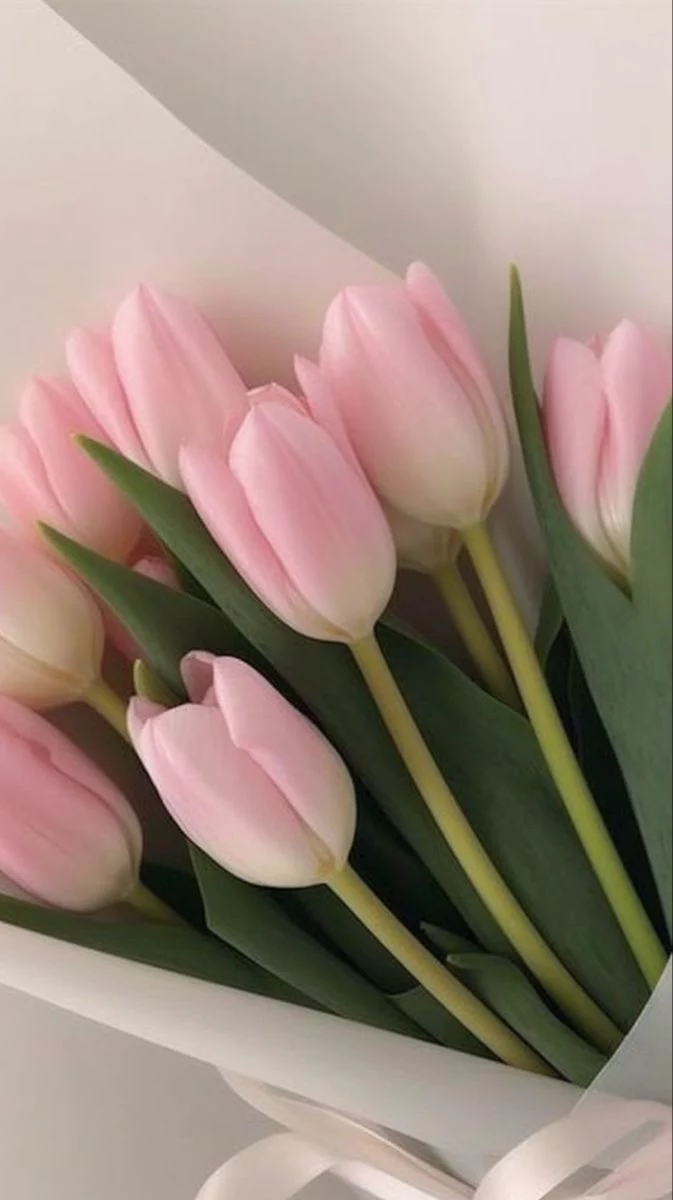tulip: (170, 346, 418, 675), (268, 239, 517, 553), (113, 641, 366, 899), (63, 268, 256, 534), (536, 274, 670, 604), (8, 351, 175, 597), (0, 693, 152, 920), (0, 499, 111, 718)
